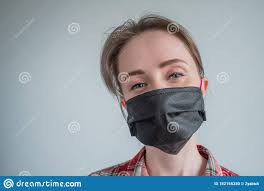with-mask: (104, 21, 218, 160)
